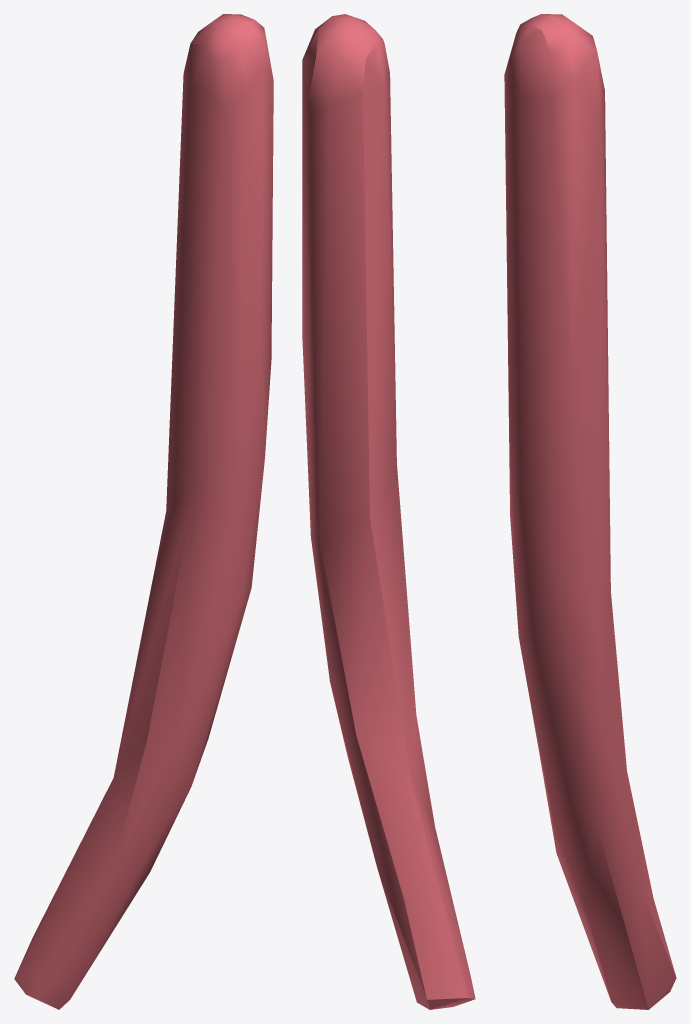
Rendered from fma9428_fj6126.glb.
3 renders of one model, left to right at view 1: azimuth 30°, elevation 25°; view 2: azimuth 150°, elevation 25°; view 3: azimuth 270°, elevation 25°, orthographic. The views are drawn at different scales.
Visible parts, largest first — view 1: FMA9428_FJ6126; view 2: FMA9428_FJ6126; view 3: FMA9428_FJ6126.
Part boxes in pixels (left/top/right/bottom): FMA9428_FJ6126: left=14, top=14, right=273, bottom=1009; FMA9428_FJ6126: left=302, top=14, right=475, bottom=1009; FMA9428_FJ6126: left=504, top=14, right=676, bottom=1009.
Bounding box in the file's own units: 0.00746 × 0.033 × 0.00482.
